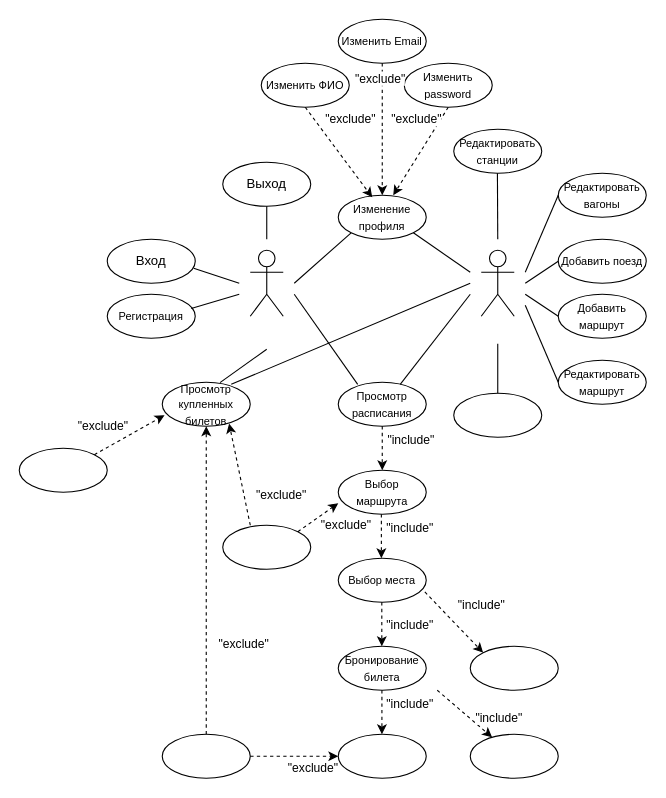
The diagram is 666 pixels wide and 798 high, and some of its shapes have lost their labels. The box of each missing label's shape, as (x1, y1, x2, y2) in pixels:
System: (480, 249, 514, 316)
User: (249, 249, 283, 316)
Возврат средств: (18, 447, 107, 492)
Оплатить билет: (337, 733, 426, 778)
Отменить бронирование: (469, 733, 558, 778)
Получить чек: (161, 733, 250, 778)
Просмотр маршрута: (222, 524, 311, 569)
Редактировать поезд: (453, 392, 542, 437)
Узнать цену билета: (469, 645, 558, 690)
